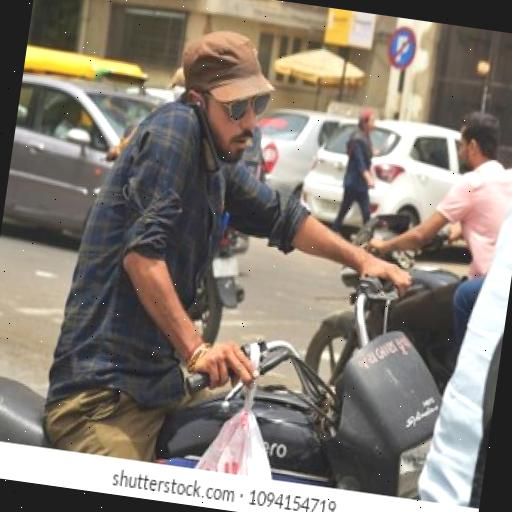no helmet: (39, 0, 455, 493)
